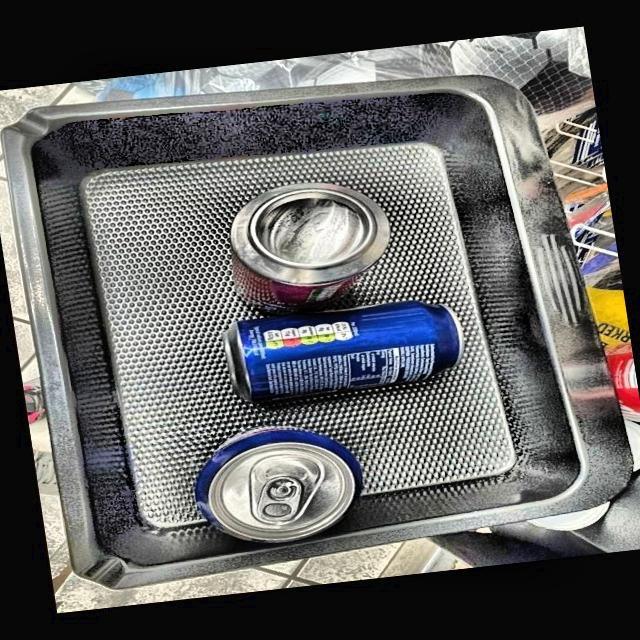coke-can: (227, 185, 386, 312)
pepsi-can: (226, 296, 473, 400), (196, 426, 361, 549)
